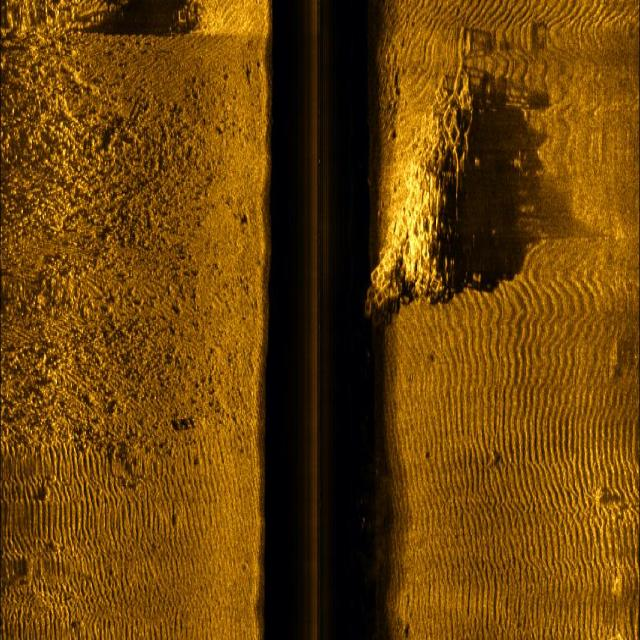artificial reef: (368, 57, 470, 319)
